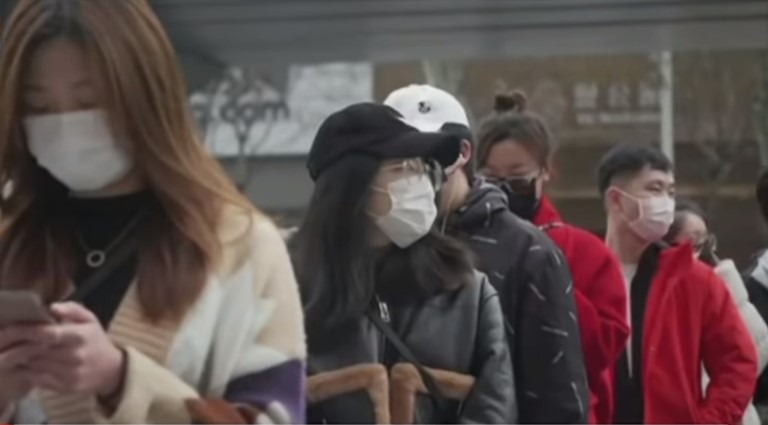face_with_mask: (9, 2, 167, 190), (330, 118, 451, 255), (473, 113, 552, 217), (599, 143, 680, 243)
